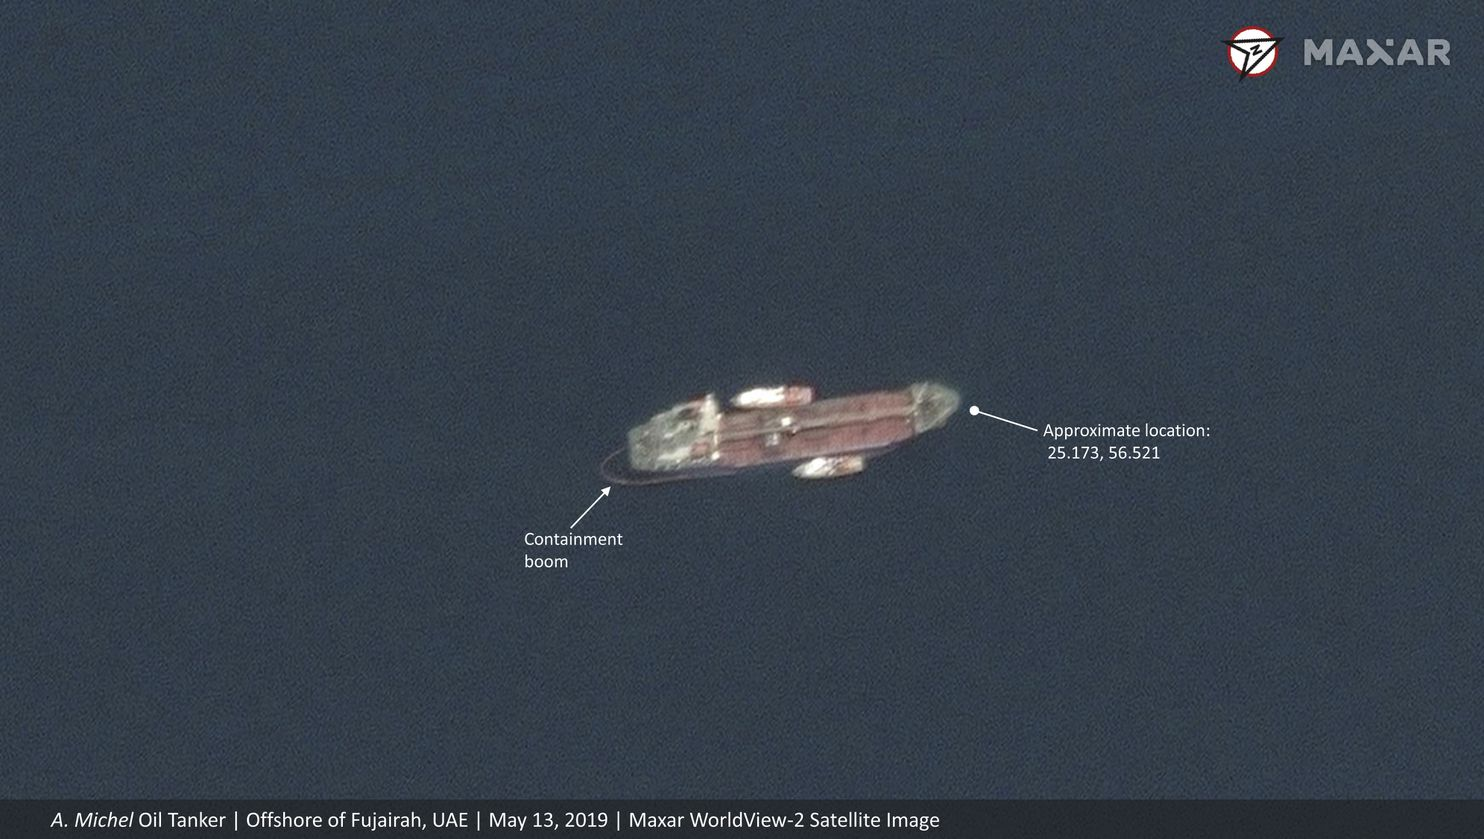ship: (577, 372, 1077, 477)
